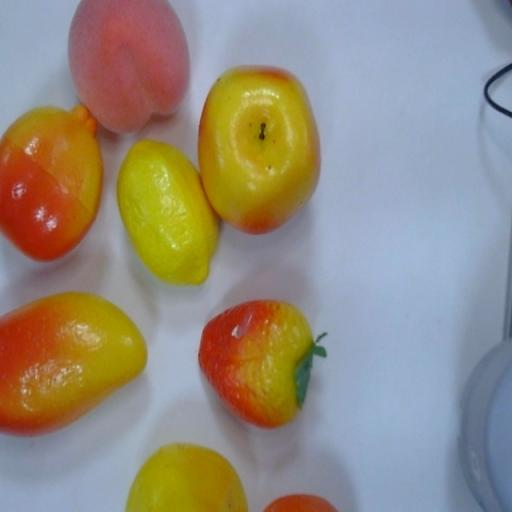Ripe: (197, 62, 329, 234), (0, 286, 150, 433), (70, 1, 220, 126), (1, 103, 107, 268), (204, 301, 334, 435), (116, 133, 222, 296), (124, 431, 255, 512), (262, 483, 357, 512)
